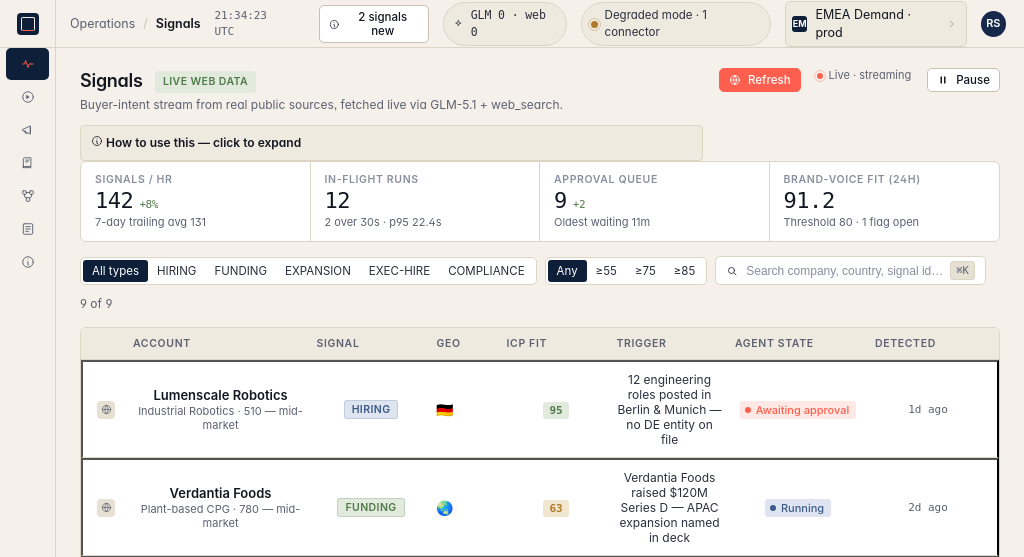
Test: App shell › opens an agent run and shows the HITL gate with a CRM diff
Click the row named "Open agent run for Lumenscale Robotics": {"x": 221, "y": 395} [81,360,999,458]
(page scrolled)
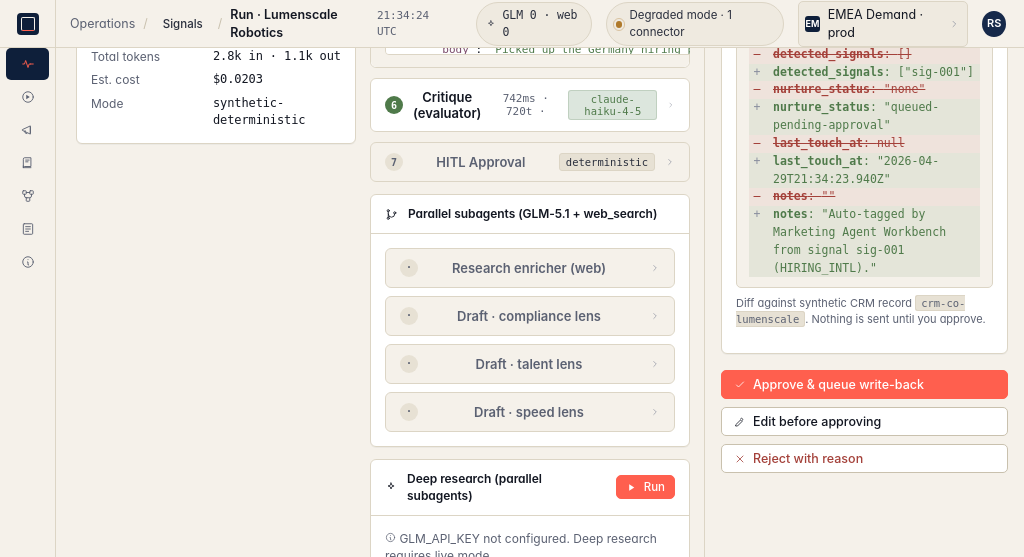
Expected: the button "Approve & queue write-back" is shown, [721,370,1008,399]
